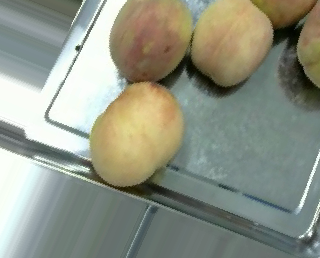Peach: (89, 82, 184, 187), (190, 0, 273, 87), (108, 0, 190, 84)
